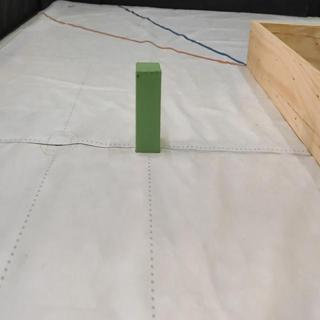greenbox: (135, 61, 162, 153)
